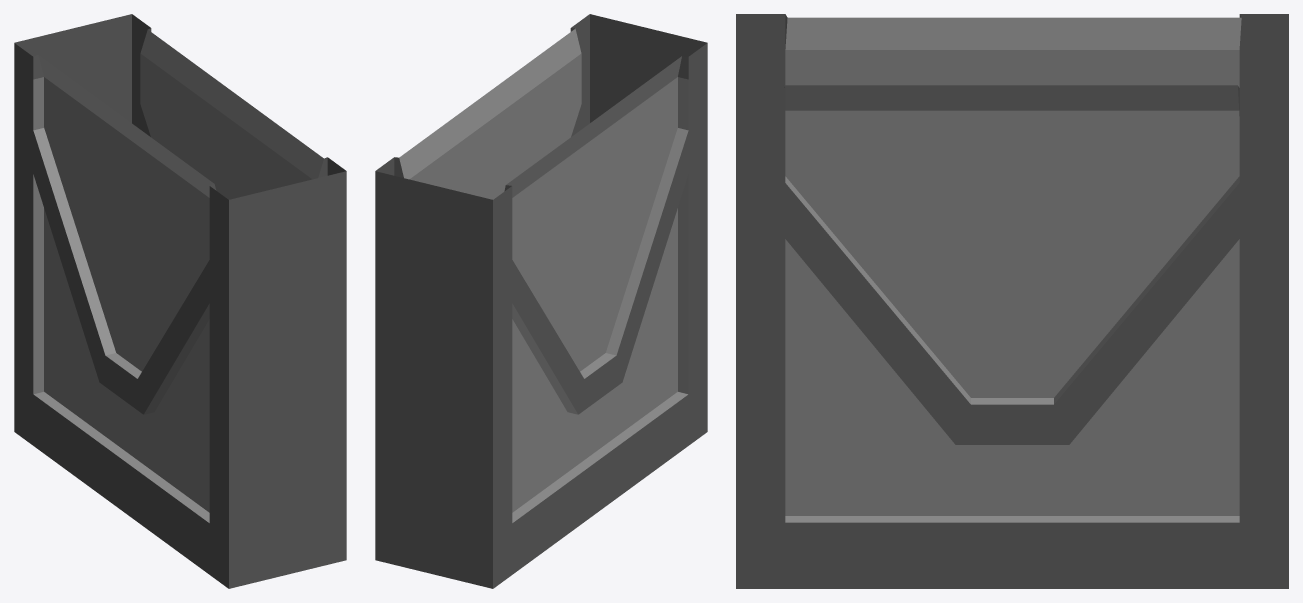
The model's file is Metal_Barrier_Wall.fbx.
The picture shows the model from 3 angles, left to right: view 1: azimuth 30°, elevation 25°; view 2: azimuth 150°, elevation 25°; view 3: azimuth 270°, elevation 25°; orthographic projection. The views are drawn at different scales.
Visible parts, largest first — view 1: Metal_Barrier_Wall; view 2: Metal_Barrier_Wall; view 3: Metal_Barrier_Wall.
Boxes of the visible parts, bbox=[...] form: Metal_Barrier_Wall: bbox=[14, 14, 346, 588]; Metal_Barrier_Wall: bbox=[375, 14, 707, 588]; Metal_Barrier_Wall: bbox=[736, 14, 1288, 588].
Size of the model in its own units: 63.43 by 200 by 200.
